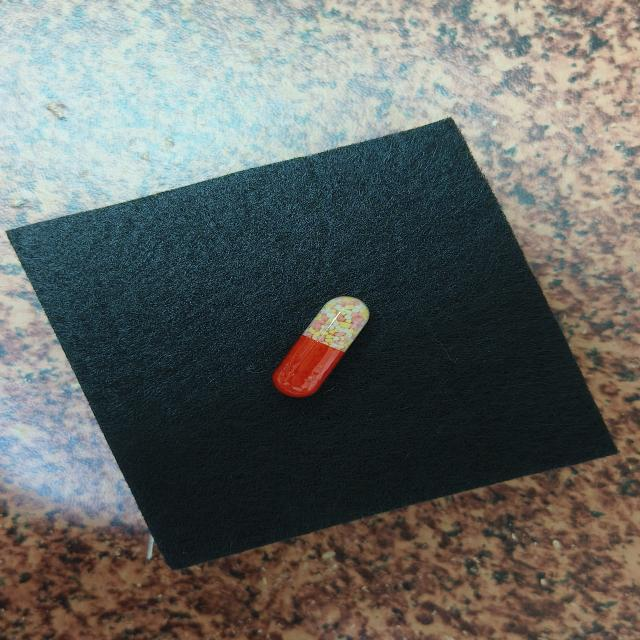Intact Capsule: (272, 296, 370, 397)
